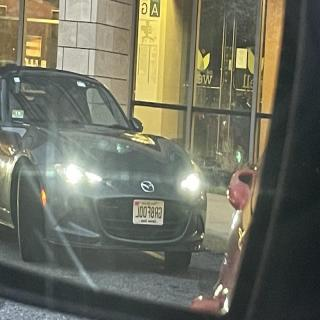license: (133, 200, 166, 227)
